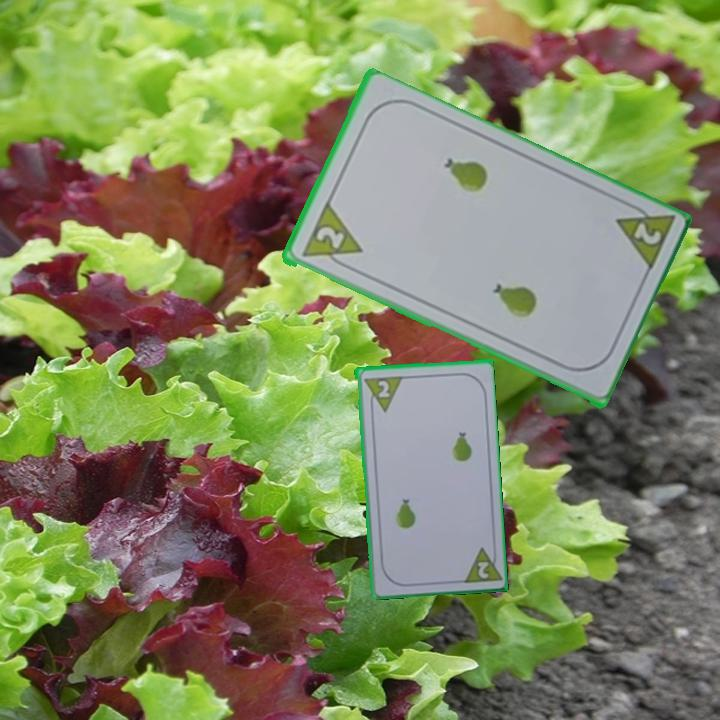2p: (611, 197, 677, 276), (312, 222, 347, 253), (373, 377, 392, 400), (474, 557, 491, 581)
